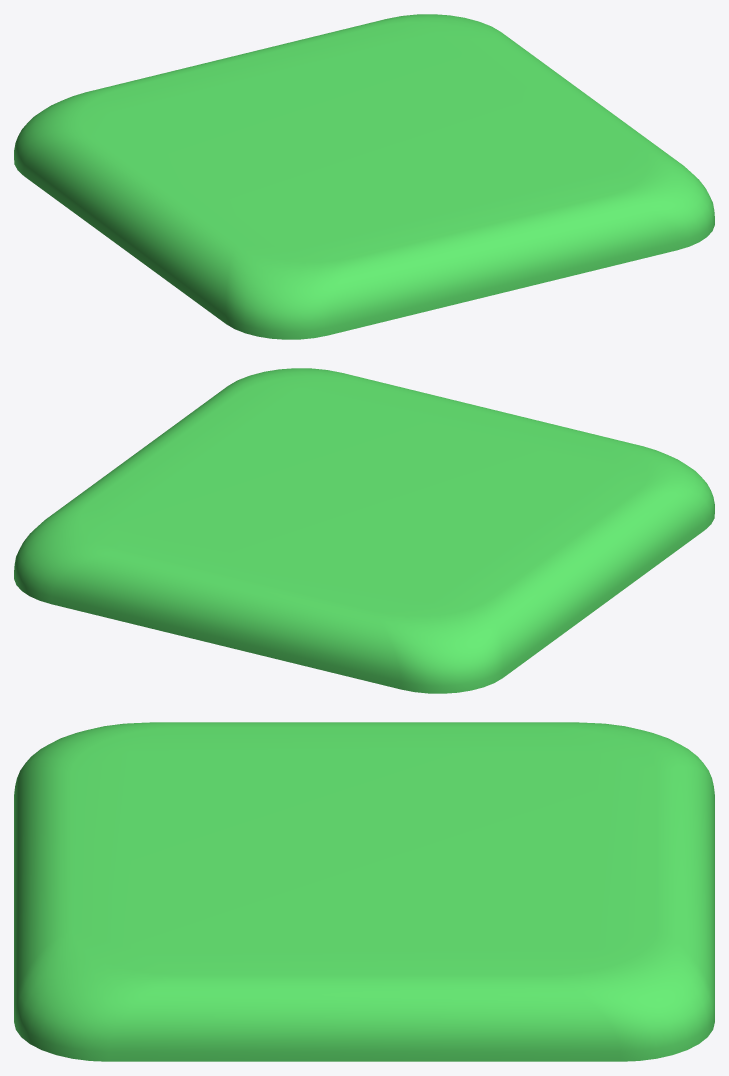
File: Ilha.fbx
3 views of the same model, one above another, from view 1: azimuth 30°, elevation 25°; view 2: azimuth 150°, elevation 25°; view 3: azimuth 270°, elevation 25° (orthographic). The views are drawn at different scales.
Visible parts, largest first — view 1: Ilha; view 2: Ilha; view 3: Ilha.
Boxes of the visible parts, x1=… form: Ilha: x1=14, y1=14, x2=714, y2=339; Ilha: x1=14, y1=368, x2=714, y2=693; Ilha: x1=14, y1=722, x2=714, y2=1061.
Size of the model in its own units: 2000 by 198 by 2000.
